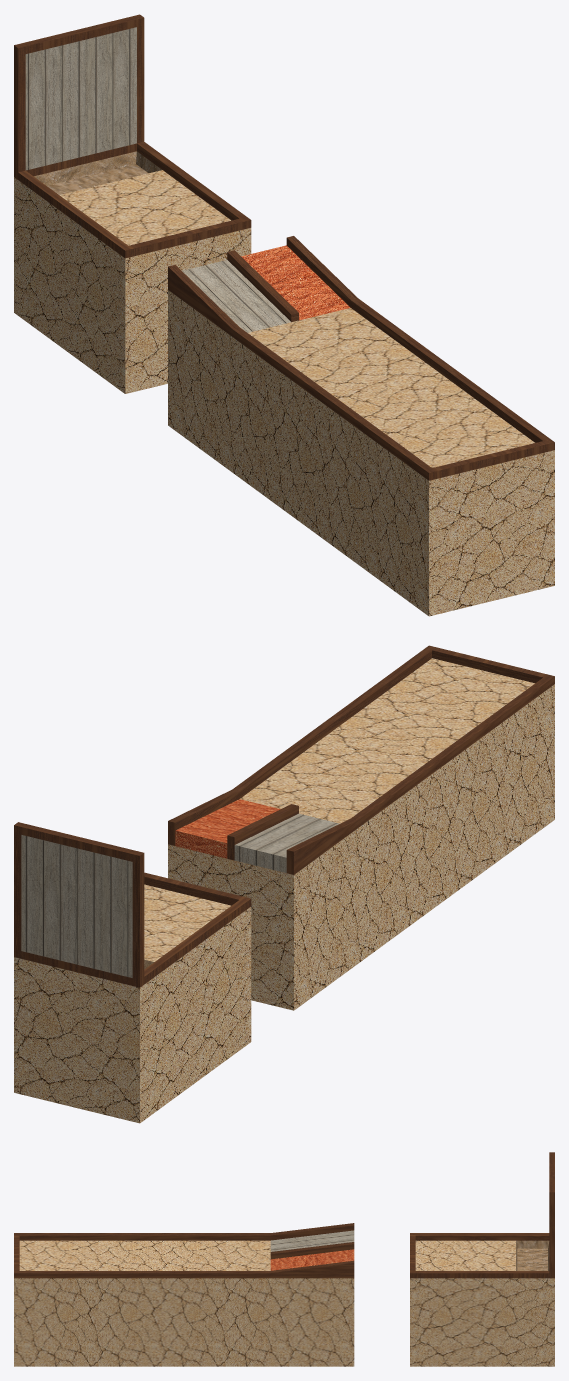
Rendered from Stage2-02.gltf.
The picture shows the model from 3 angles, top to bottom: view 1: azimuth 30°, elevation 25°; view 2: azimuth 150°, elevation 25°; view 3: azimuth 270°, elevation 25°; orthographic projection. The views are drawn at different scales.
Visible parts, largest first — view 1: Cube; view 2: Cube; view 3: Cube.
Part boxes in pixels (bbox=[...]): Cube: bbox=[14, 14, 554, 616]; Cube: bbox=[14, 645, 554, 1123]; Cube: bbox=[14, 1152, 554, 1366].
Bounding box in the file's own units: 3.4 × 6.9 × 19.4.
Materials: 10 (10 with a texture image).
